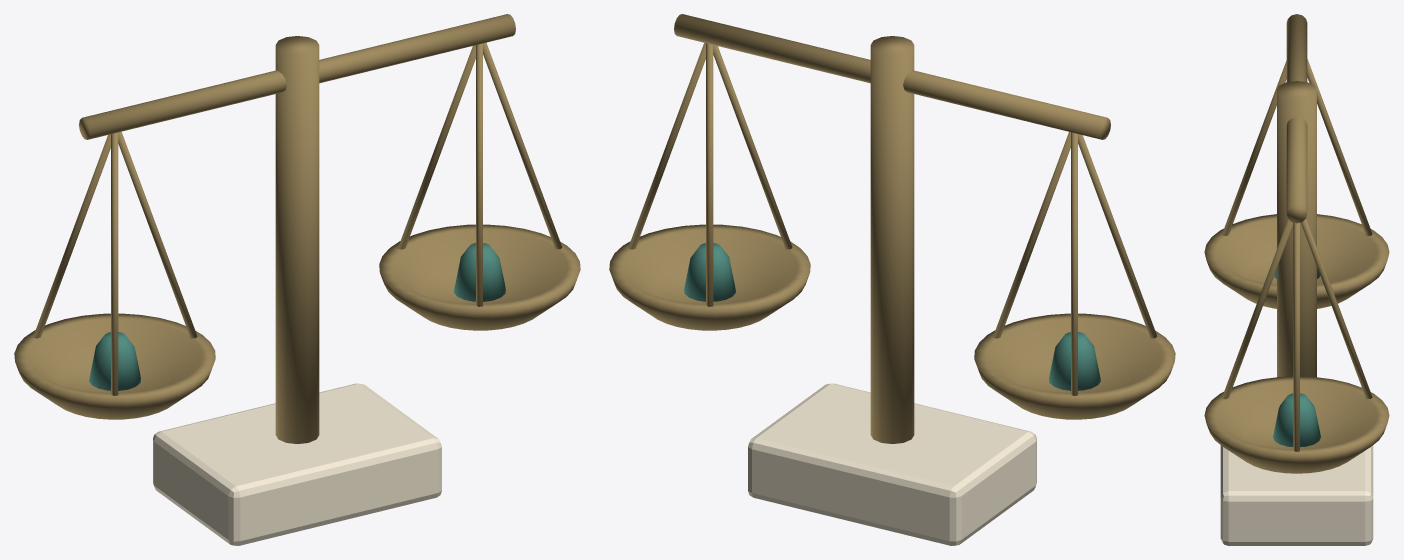
The model's file is balance-scale.glb.
The picture shows the model from 3 angles, left to right: view 1: azimuth 30°, elevation 25°; view 2: azimuth 150°, elevation 25°; view 3: azimuth 270°, elevation 25°; orthographic projection. The views are drawn at different scales.
Parts seen in each view (by area): view 1: balance-scale__bronze, balance-scale__marble, balance-scale__patina; view 2: balance-scale__bronze, balance-scale__marble, balance-scale__patina; view 3: balance-scale__bronze, balance-scale__marble, balance-scale__patina.
Boxes of the visible parts, left/top/right/bottom form: balance-scale__bronze: left=14, top=14, right=580, bottom=443; balance-scale__marble: left=153, top=383, right=441, bottom=545; balance-scale__patina: left=89, top=243, right=505, bottom=390; balance-scale__bronze: left=609, top=14, right=1175, bottom=443; balance-scale__marble: left=748, top=383, right=1036, bottom=545; balance-scale__patina: left=684, top=243, right=1100, bottom=390; balance-scale__bronze: left=1204, top=14, right=1389, bottom=473; balance-scale__marble: left=1220, top=445, right=1373, bottom=545; balance-scale__patina: left=1273, top=267, right=1320, bottom=447.
Size of the model in its own units: 1.42 by 1.13 by 0.46.
